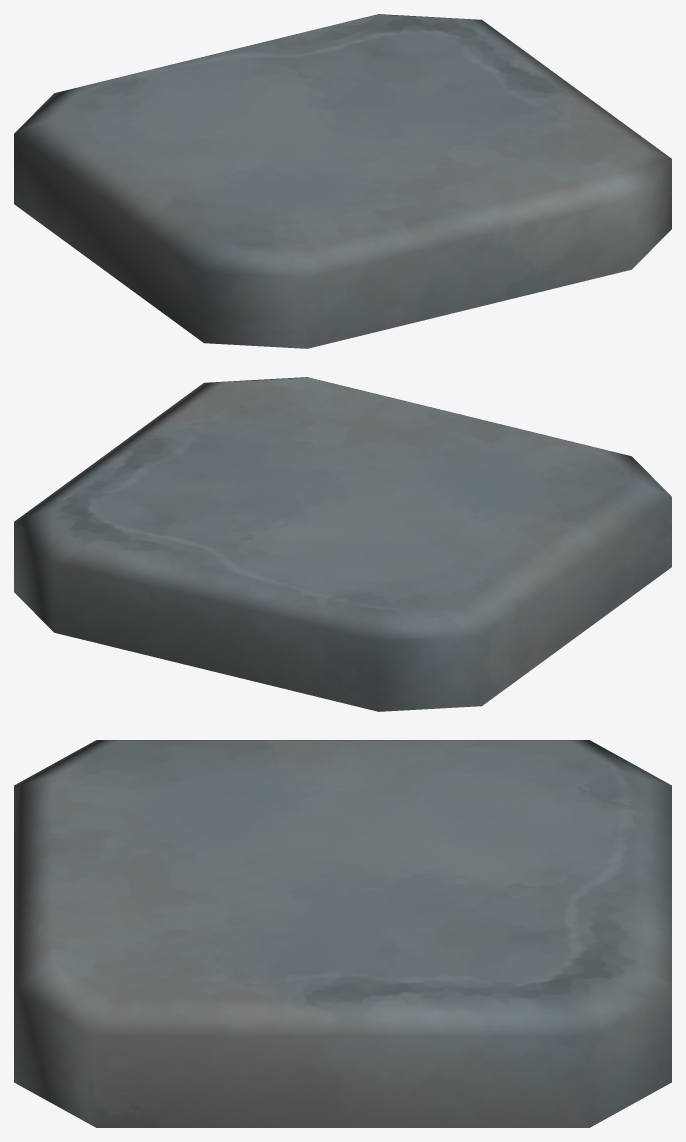
Rendered from stone_03.fbx.
3 renders of one model, top to bottom at view 1: azimuth 30°, elevation 25°; view 2: azimuth 150°, elevation 25°; view 3: azimuth 270°, elevation 25°, orthographic. The views are drawn at different scales.
Visible parts, largest first — view 1: stone_03; view 2: stone_03; view 3: stone_03.
Part boxes in pixels (x1,y1,x2,y2): stone_03: [14, 14, 671, 348]; stone_03: [14, 377, 671, 711]; stone_03: [14, 740, 671, 1127].
Size of the model in its own units: 50.57 by 8.76 by 47.41.
